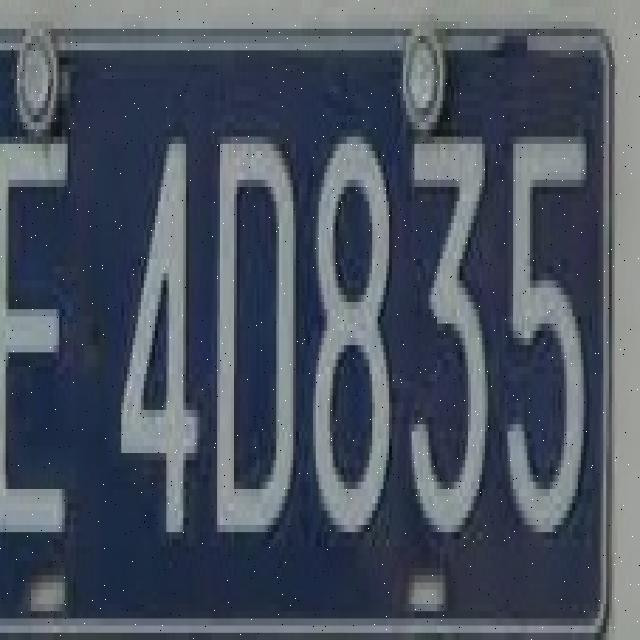licenseplate: (0, 22, 612, 632)
